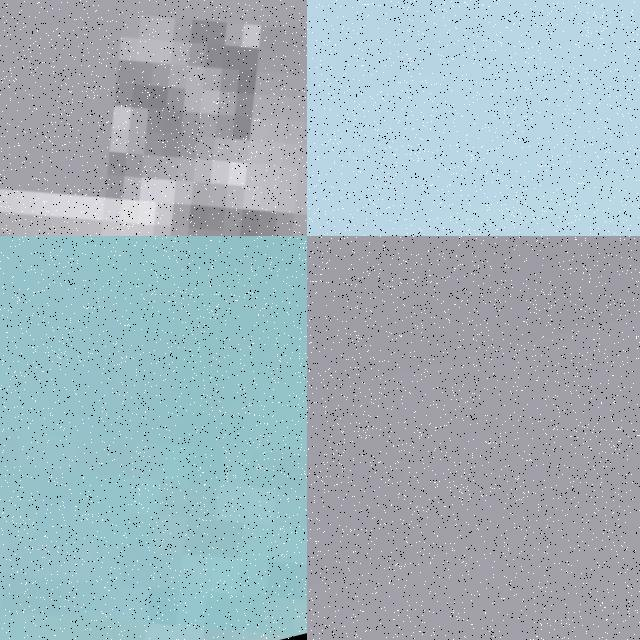drone: (0, 236, 307, 640), (0, 0, 307, 236)
